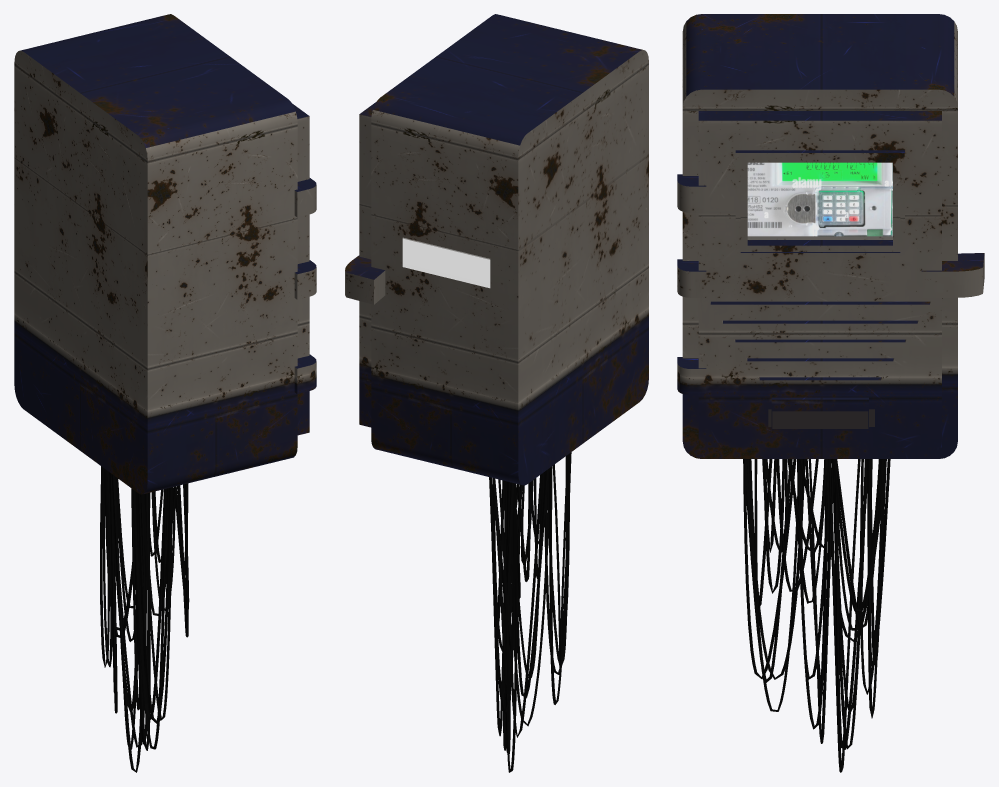
The model's file is Electrical_Box_2.glb.
The picture shows the model from 3 angles, left to right: view 1: azimuth 30°, elevation 25°; view 2: azimuth 150°, elevation 25°; view 3: azimuth 270°, elevation 25°; orthographic projection. The views are drawn at different scales.
Parts seen in each view (by area): view 1: Cube.013; view 2: Cube.013; view 3: Cube.013.
Part boxes in pixels (x1,y1,x2,y2): Cube.013: (14,14,316,772); Cube.013: (345,14,648,772); Cube.013: (677,14,984,772).
Size of the model in its own units: 0.5311 by 2.04 by 0.7828.
7 materials, 5 textured.
